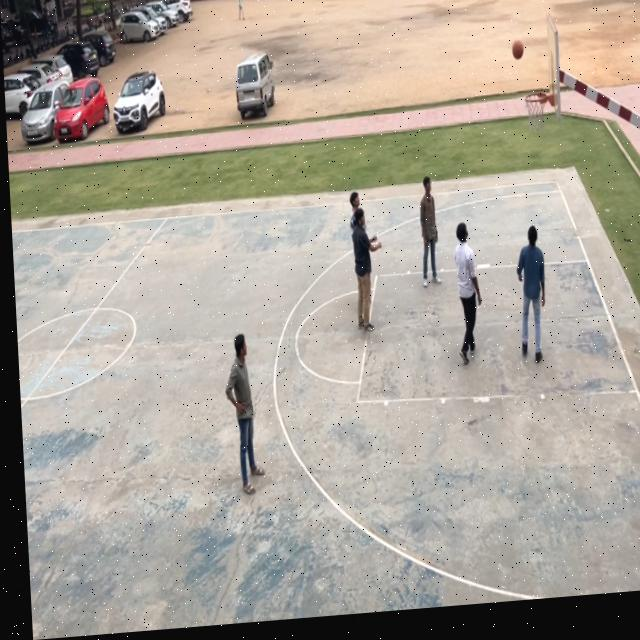basketball: (508, 35, 527, 64)
hoop: (524, 84, 551, 137)
